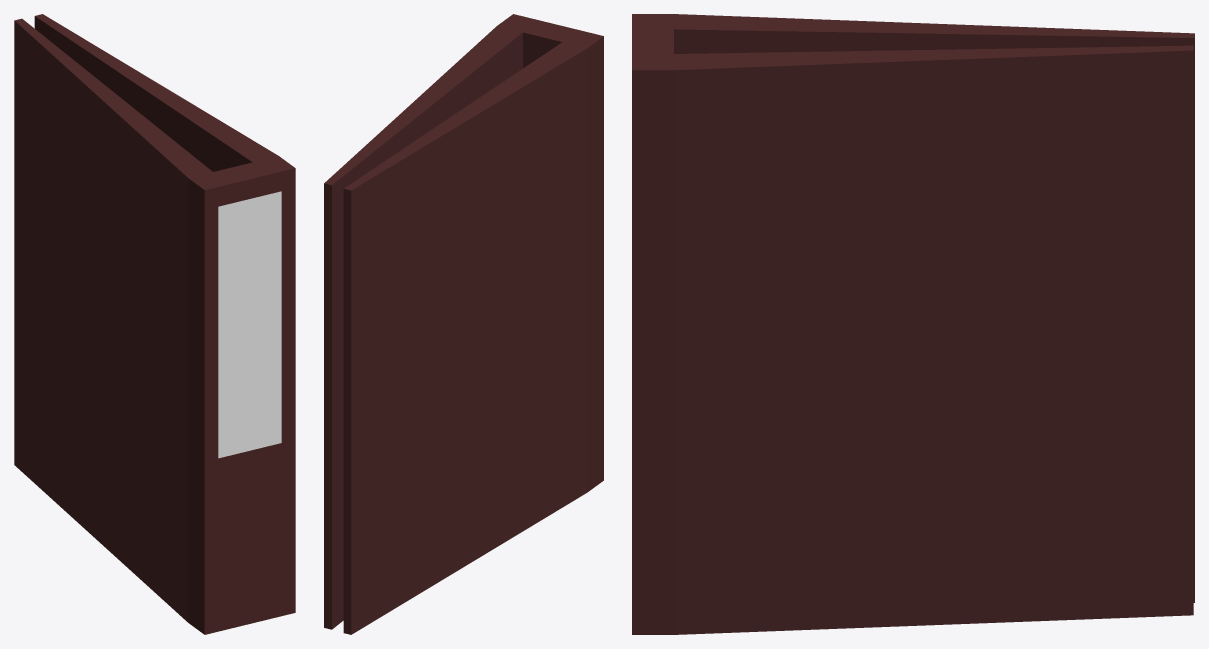
File: Binder.fbx
The picture shows the model from 3 angles, left to right: view 1: azimuth 30°, elevation 25°; view 2: azimuth 150°, elevation 25°; view 3: azimuth 270°, elevation 25°; orthographic projection. The views are drawn at different scales.
Visible parts, largest first — view 1: Cube; view 2: Cube; view 3: Cube.
Boxes of the visible parts, x1,y1,x2,y2 form: Cube: (14,14,295,634); Cube: (324,14,603,634); Cube: (632,14,1194,634).
Size of the model in its own units: 16.01 by 75 by 67.73.
